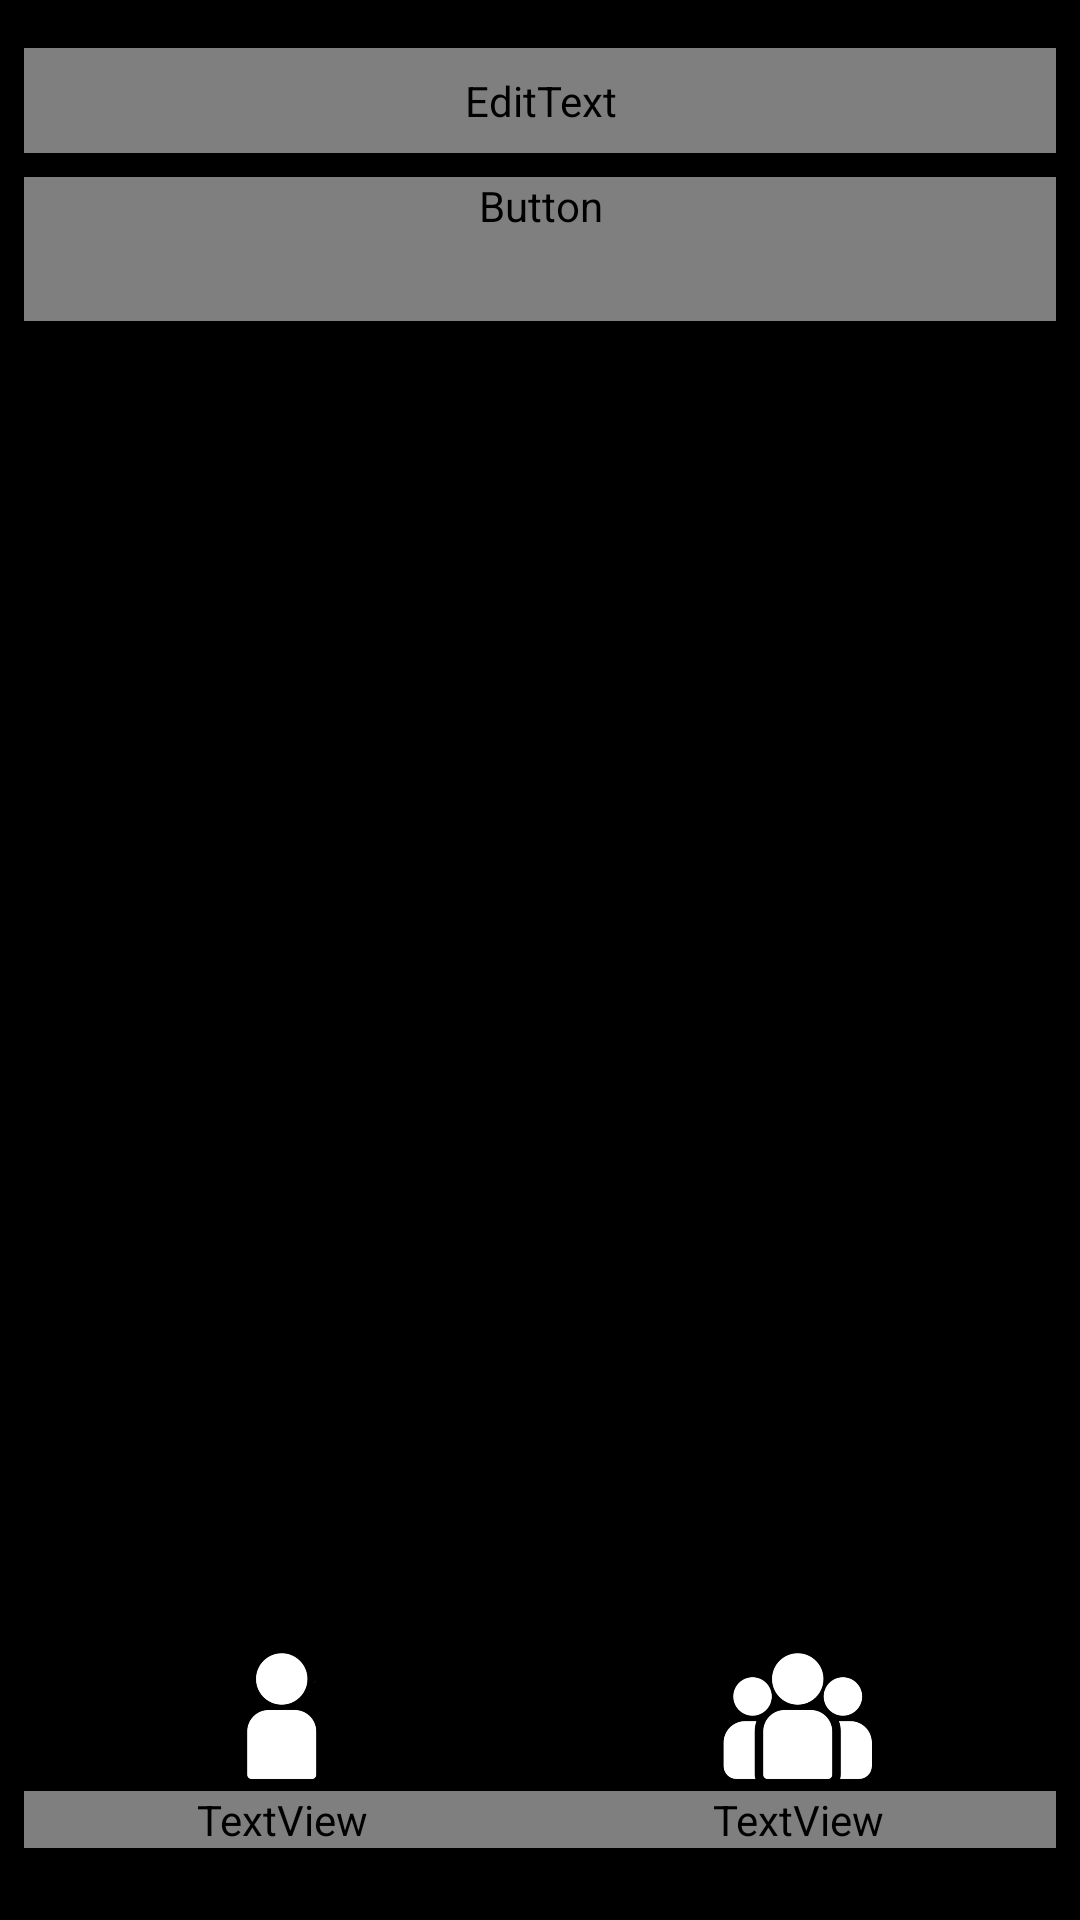

Locate icon controls on the screen. Image size 1080px×1920px, boxes as [x1,y1,x2,y2].
contact: [247,1653,317,1779]
